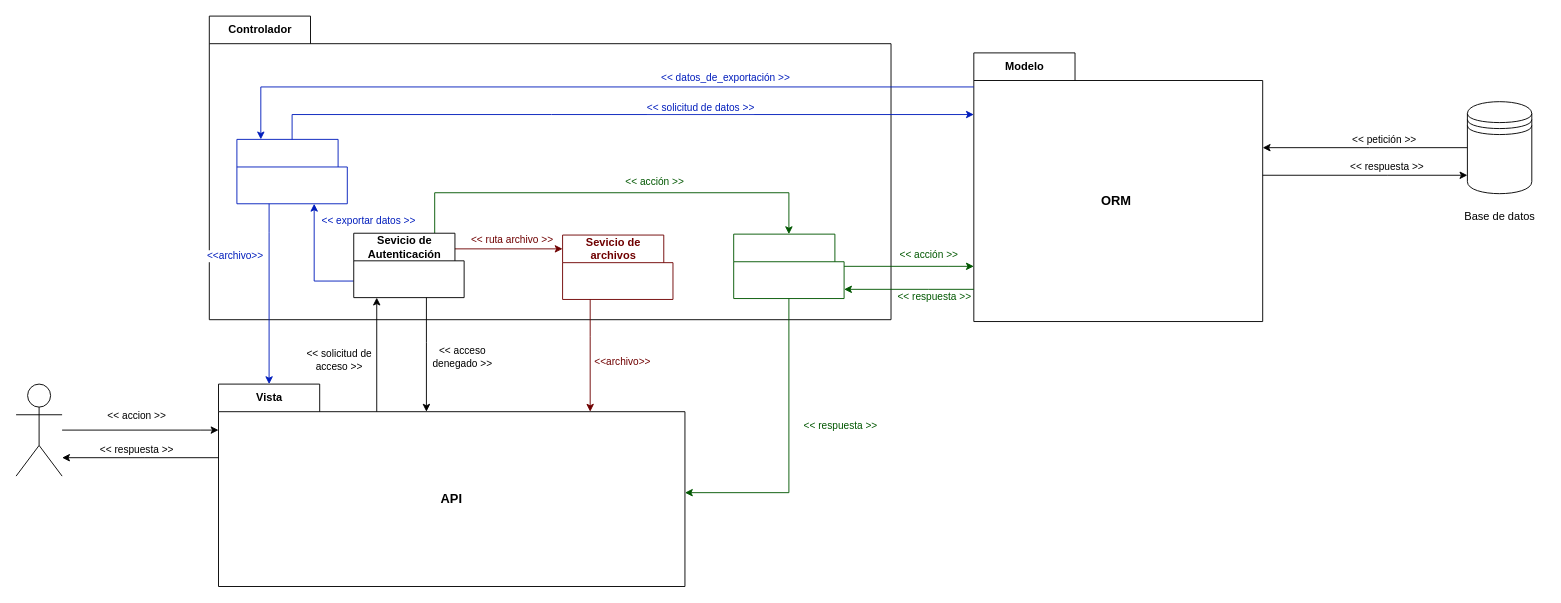
The diagram is 1561 pixels wide and 603 high, and some of its shapes have lost their labels. The shapes that lost their labels are listed below. From the top down, each one's centre as x and y in pixels, then its label:
[291,171]: Sevicio de exportación
[788,266]: Gestión de Datos
